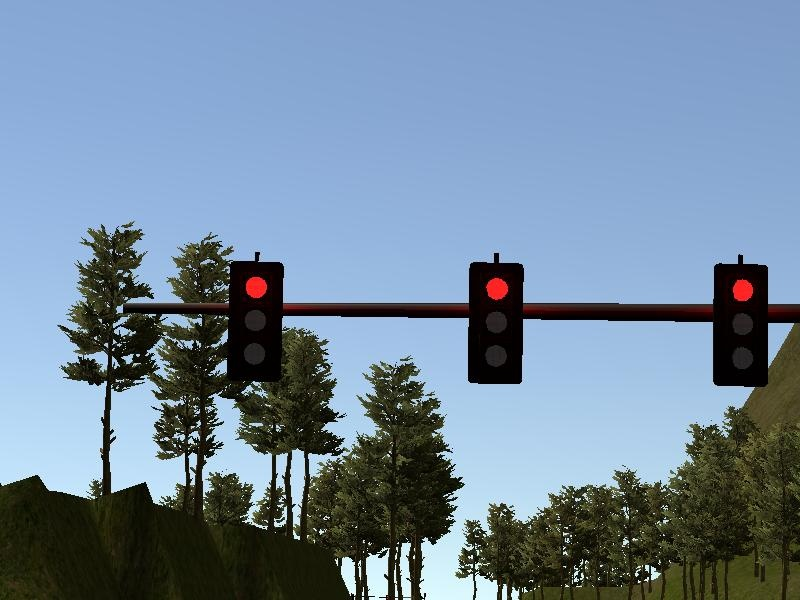Red: (466, 260, 526, 387), (711, 261, 770, 390), (227, 259, 285, 383)
